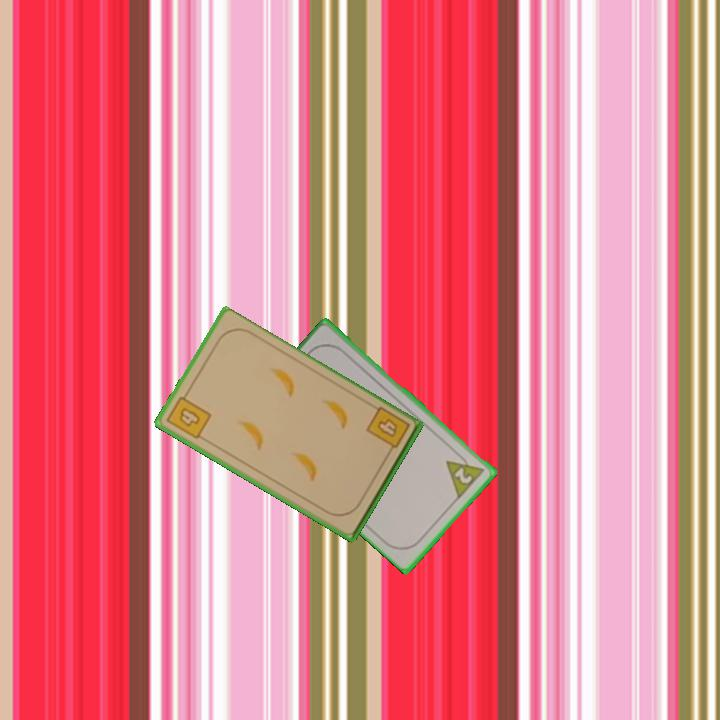2p: (442, 447, 488, 501)
4b: (362, 403, 413, 459), (163, 388, 214, 442)
